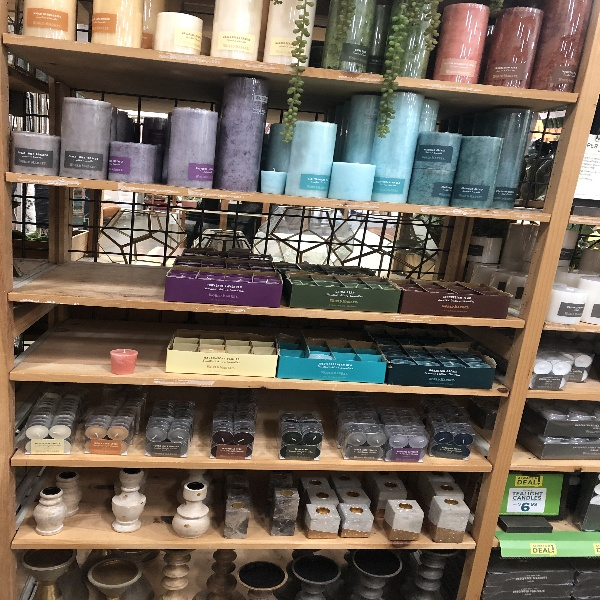void: (8, 182, 168, 301), (9, 305, 169, 376)
